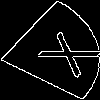X: (25, 25, 100, 79)
